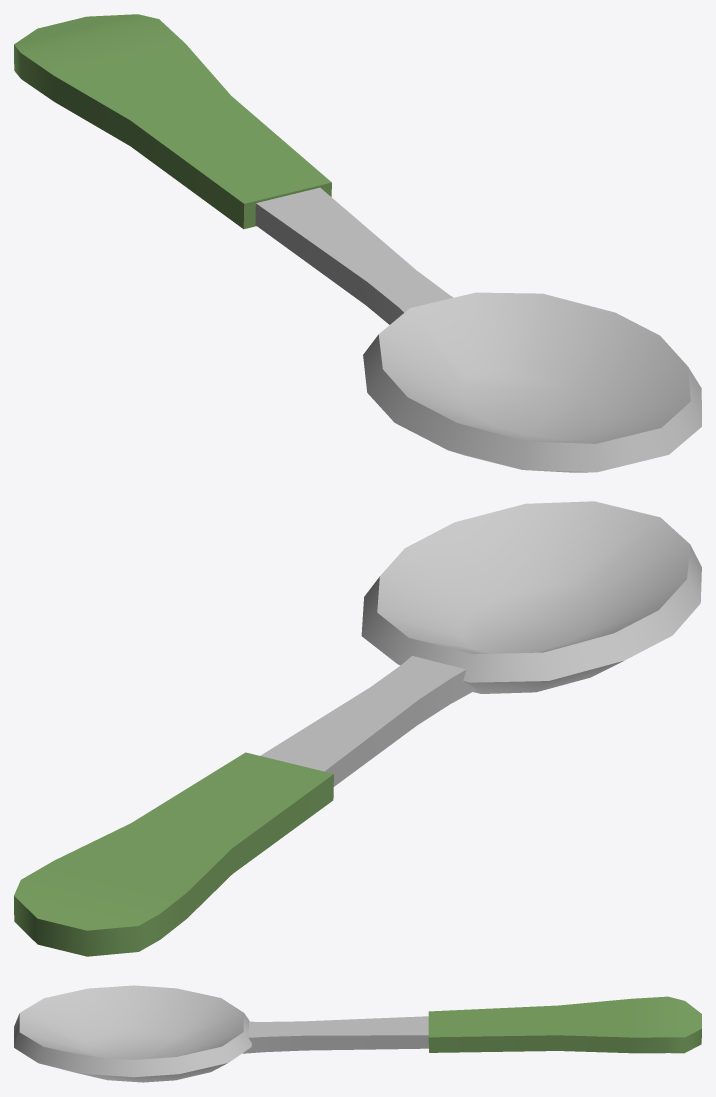
The model's file is Spoon_01.fbx.
The picture shows the model from 3 angles, top to bottom: view 1: azimuth 30°, elevation 25°; view 2: azimuth 150°, elevation 25°; view 3: azimuth 270°, elevation 25°; orthographic projection. The views are drawn at different scales.
Visible parts, largest first — view 1: Spoon_01; view 2: Spoon_01; view 3: Spoon_01.
Boxes of the visible parts, x1,y1,x2,y2 form: Spoon_01: [14, 14, 701, 472]; Spoon_01: [14, 501, 701, 956]; Spoon_01: [14, 985, 701, 1082].
Bounding box in the file's own units: 0.0487 × 0.0133 × 0.1718.
